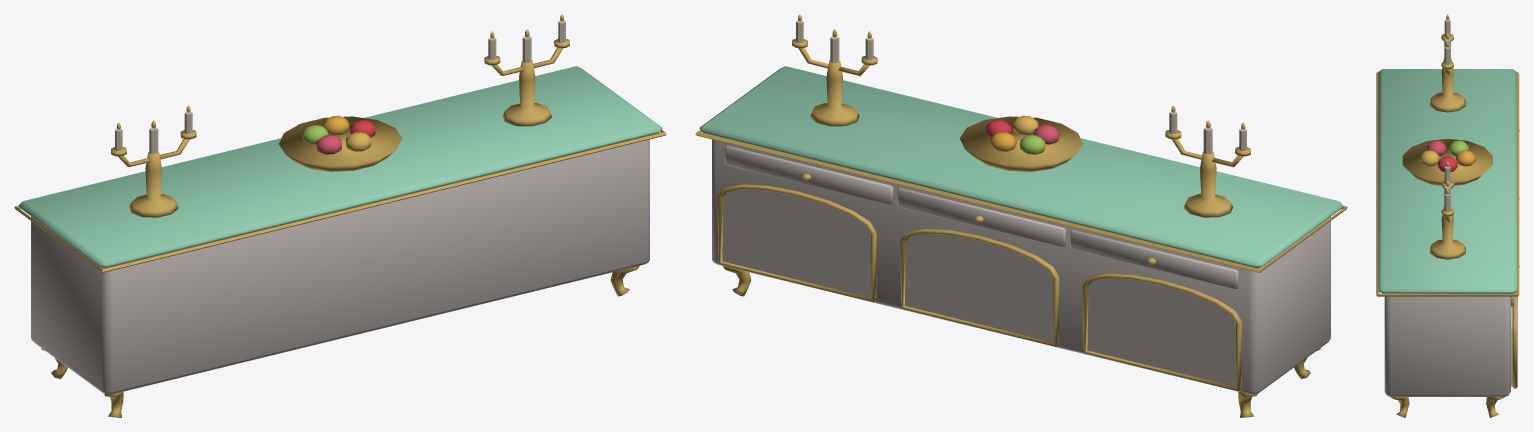
Rendered from sideboard.glb.
3 views of the same model, side by side, from view 1: azimuth 30°, elevation 25°; view 2: azimuth 150°, elevation 25°; view 3: azimuth 270°, elevation 25° (orthographic). The views are drawn at different scales.
Visible parts, largest first — view 1: sideboard; view 2: sideboard; view 3: sideboard.
Part boxes in pixels (x1,y1,x2,y2): sideboard: [14, 14, 666, 417]; sideboard: [695, 14, 1347, 417]; sideboard: [1376, 14, 1519, 417].
Size of what is drawn, in the model's own units: 2.2 by 1 by 0.6.
